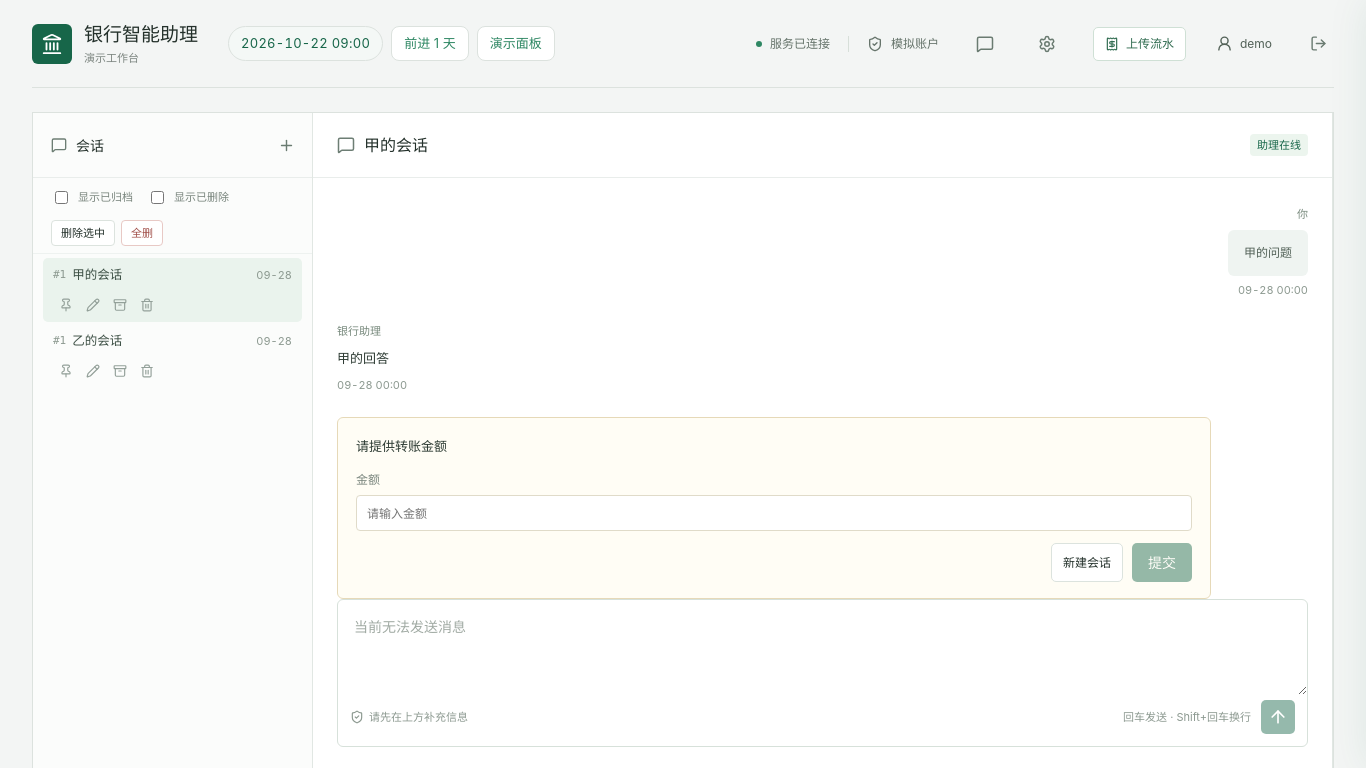
Test: conversation switching › opens at the newest message, not the top of the ledger
Step 1. Click the element with class "conversation-row" showing "#1 乙的会话 09-28" → (97, 340), box [53,333,292,348]
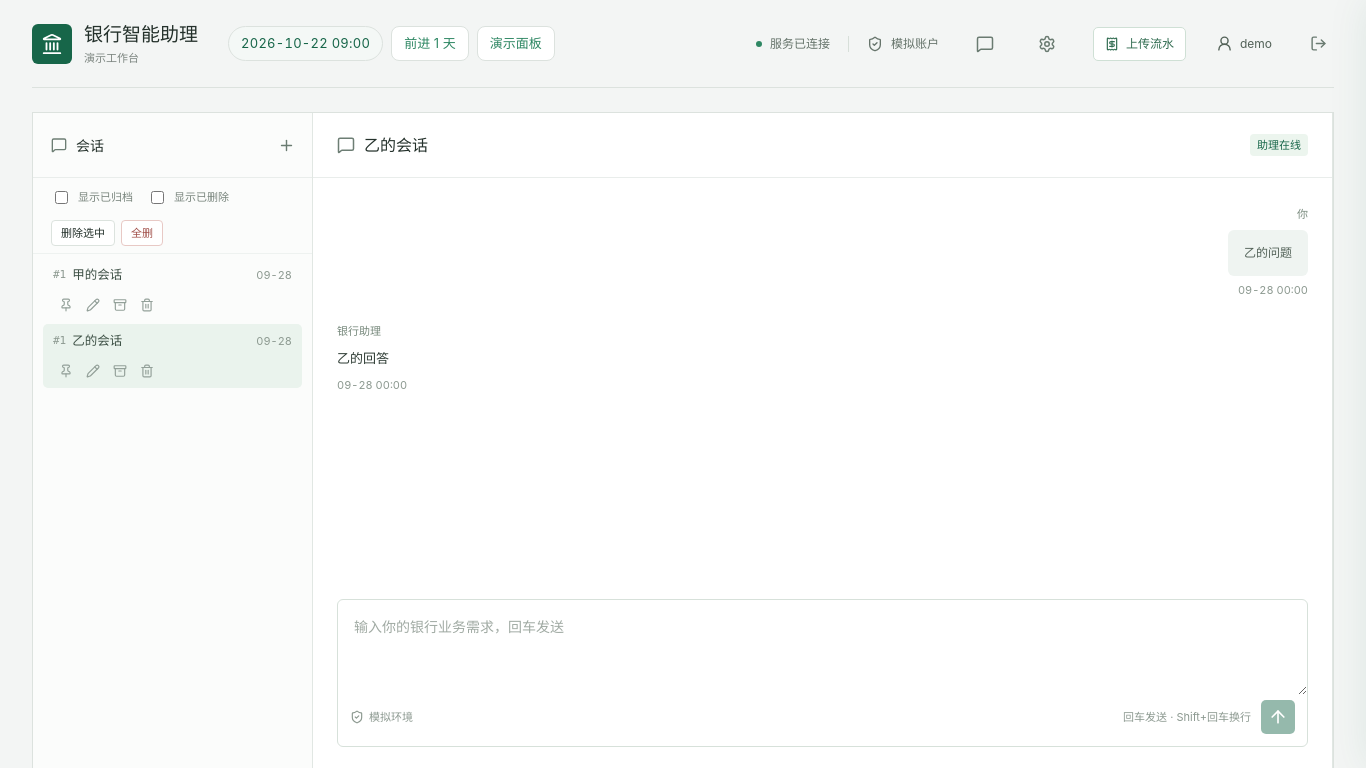
Check: the heading "乙的会话" is shown, box [364,133,428,157]
